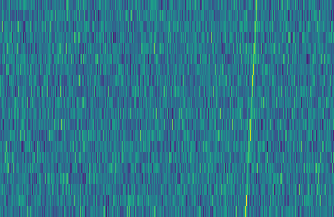signal: (242, 0, 262, 217)
